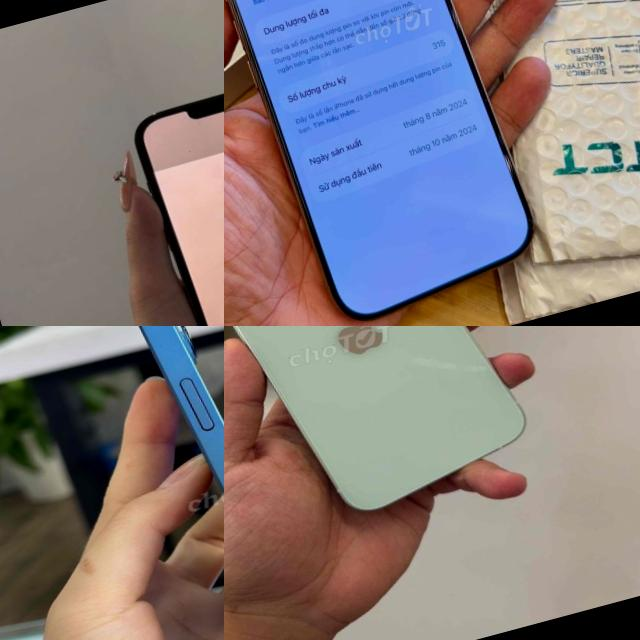gen_12_13: (224, 326, 542, 541), (111, 326, 224, 640), (116, 37, 224, 326)
gen_16: (224, 0, 560, 326)
